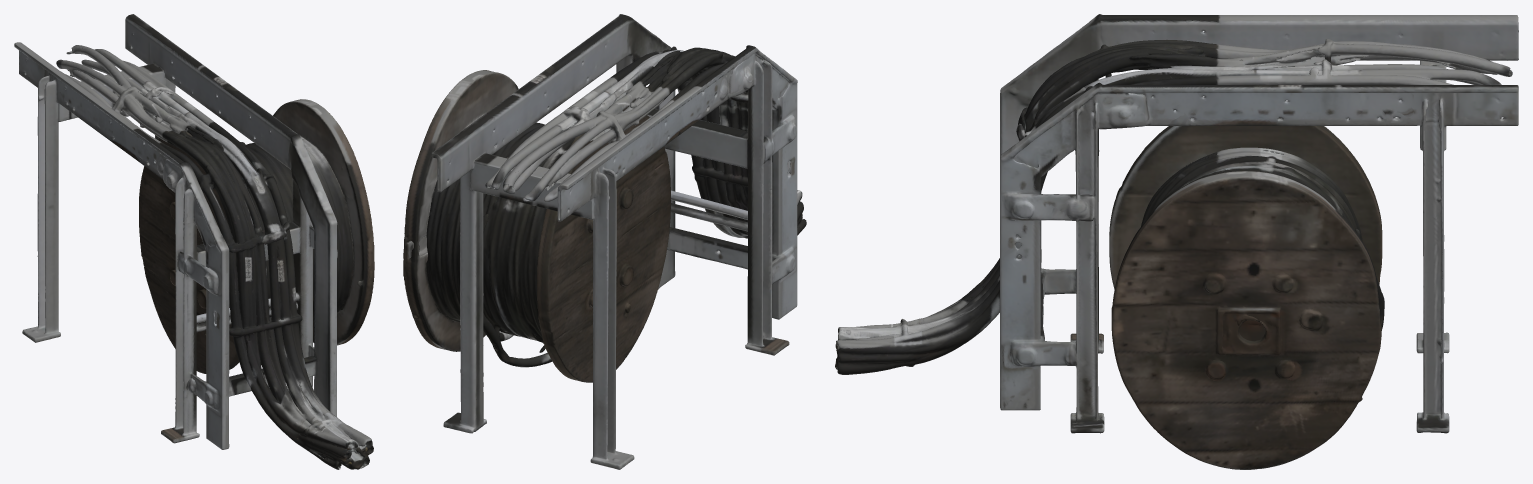
The model's file is cable reel 3d model.glb.
3 views of the same model, side by side, from view 1: azimuth 30°, elevation 25°; view 2: azimuth 150°, elevation 25°; view 3: azimuth 270°, elevation 25° (orthographic). The views are drawn at different scales.
Parts seen in each view (by area): view 1: tripo_node_8fc8a443-31e6-460b-b621-518c20148c3e; view 2: tripo_node_8fc8a443-31e6-460b-b621-518c20148c3e; view 3: tripo_node_8fc8a443-31e6-460b-b621-518c20148c3e.
Part boxes in pixels (x1=…): tripo_node_8fc8a443-31e6-460b-b621-518c20148c3e: x1=14, y1=14, x2=374, y2=469; tripo_node_8fc8a443-31e6-460b-b621-518c20148c3e: x1=403, y1=14, x2=806, y2=469; tripo_node_8fc8a443-31e6-460b-b621-518c20148c3e: x1=835, y1=14, x2=1518, y2=469.
Size of the model in its own units: 0.4752 by 0.5429 by 1.
Materials: 1 (1 with a texture image).
